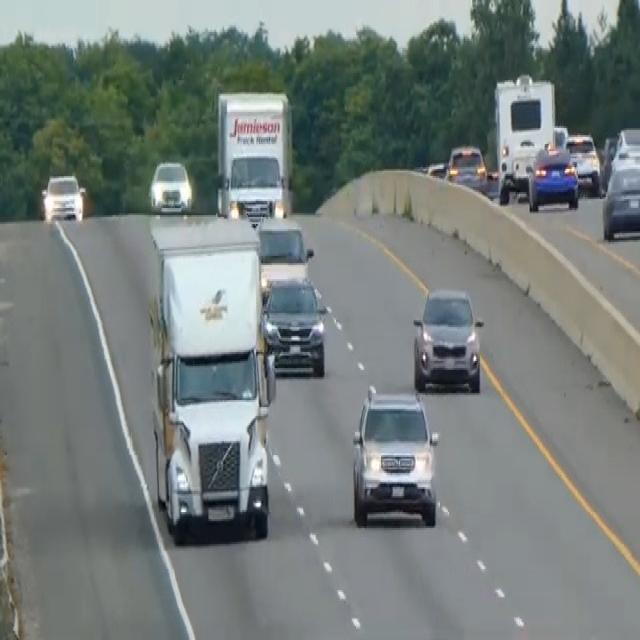car: (350, 380, 440, 528), (411, 283, 484, 393), (261, 272, 327, 377), (254, 212, 313, 284), (526, 140, 579, 212), (601, 158, 639, 240), (148, 156, 192, 214), (564, 130, 601, 192), (40, 171, 84, 222), (445, 140, 487, 190), (614, 124, 639, 153)
lorry: (145, 215, 278, 542)
